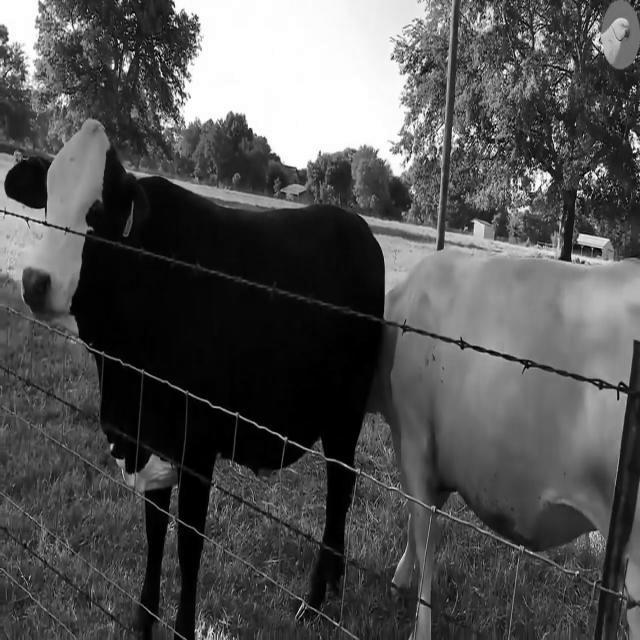COW: (6, 120, 384, 640), (370, 326, 626, 548), (385, 252, 640, 383), (406, 504, 436, 639), (625, 492, 640, 640)
